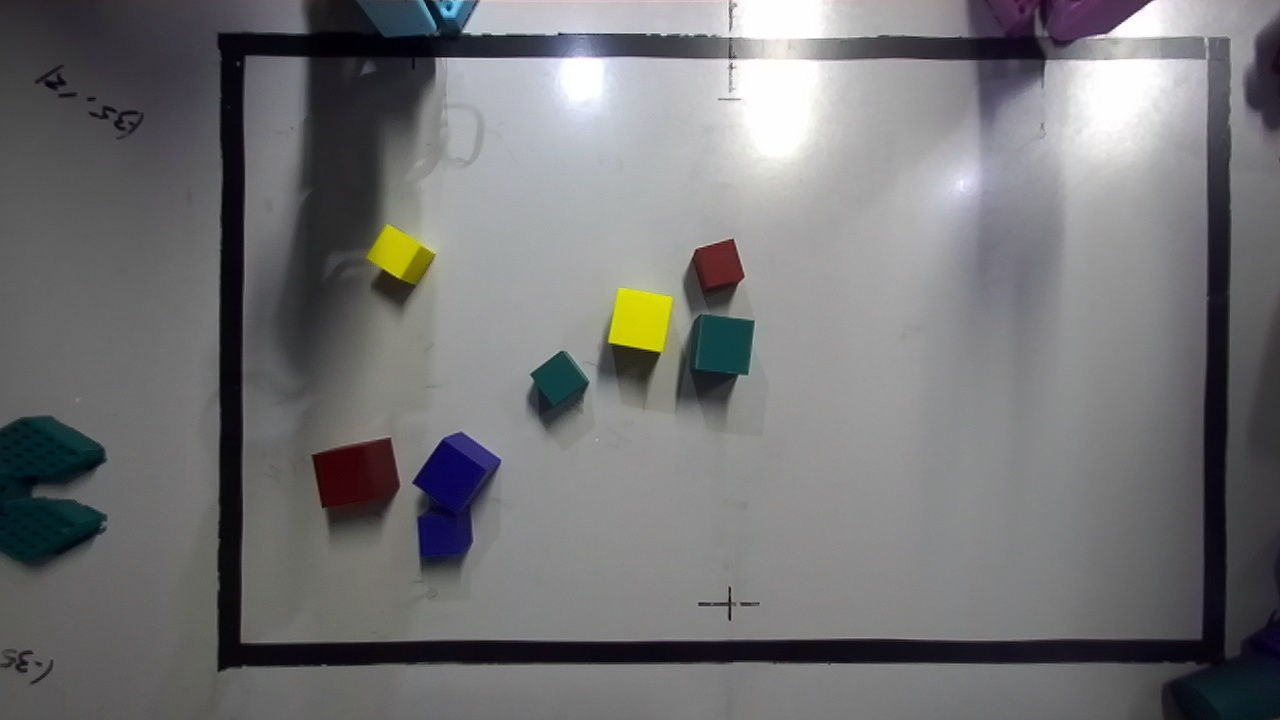cube: (412, 432, 500, 515), (311, 437, 399, 507), (608, 288, 671, 353), (366, 224, 434, 284), (690, 314, 754, 374), (530, 350, 588, 407), (417, 504, 472, 558), (692, 238, 743, 292)
